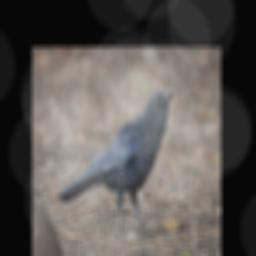Crow: (57, 88, 177, 237)
